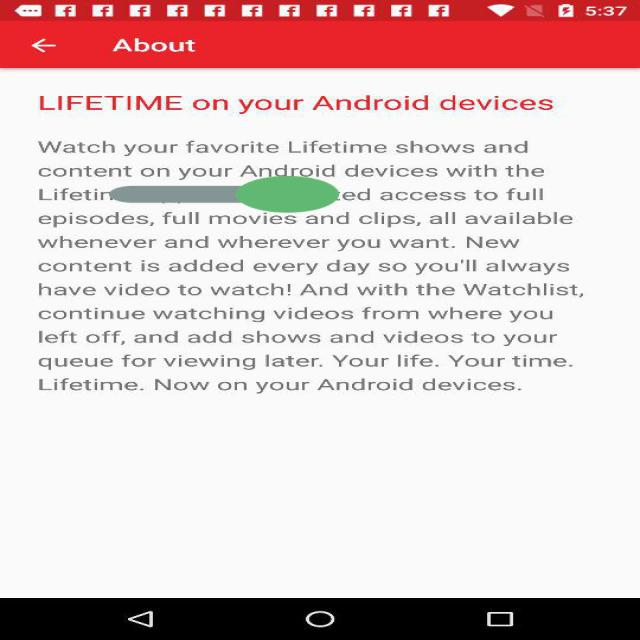social proof: (109, 154, 339, 235)
